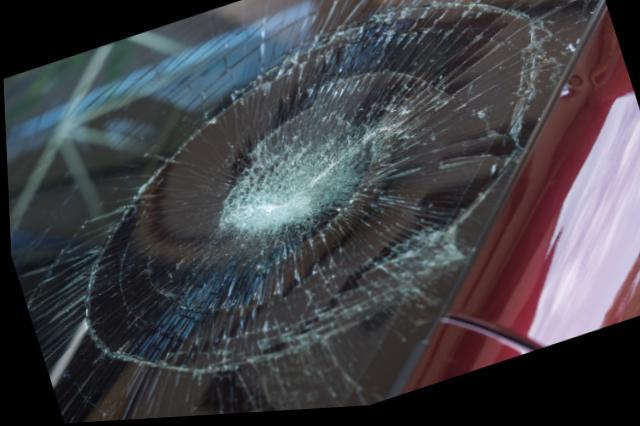glass shatter: (3, 0, 602, 424)
